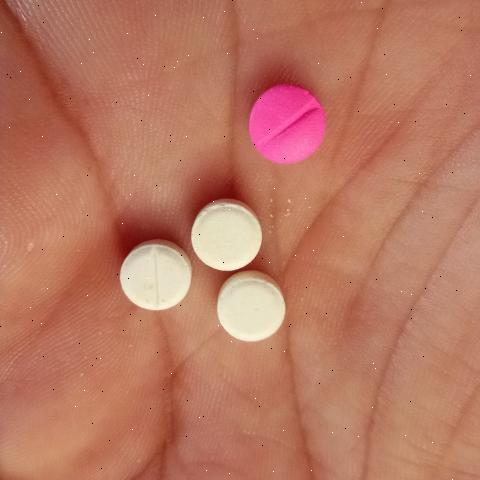Pill: (177, 184, 266, 278), (101, 236, 198, 320), (202, 273, 295, 356)
